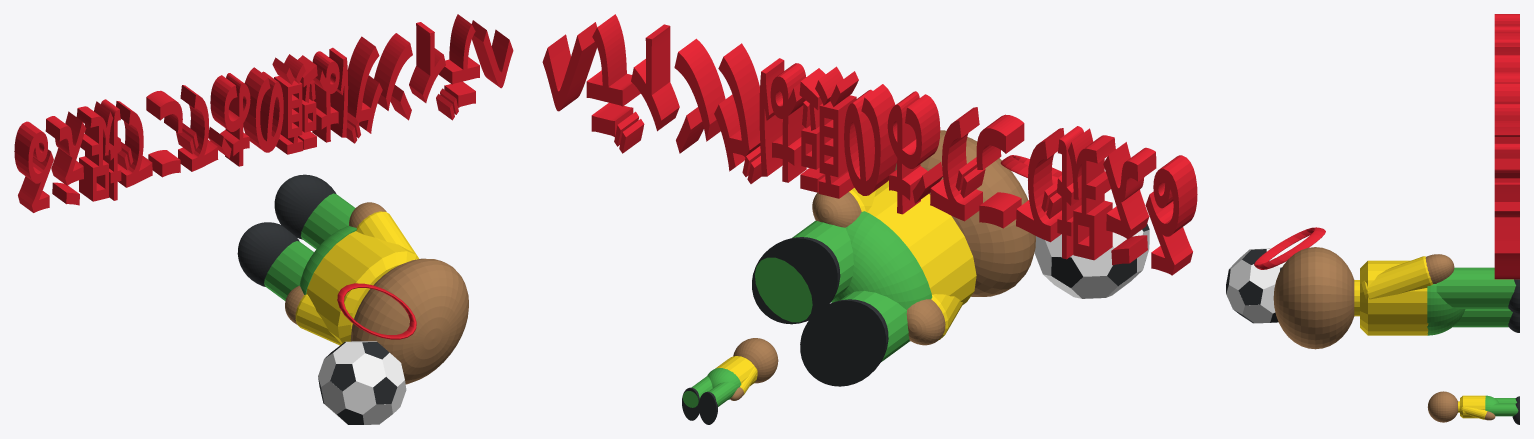
File: tinker.obj
The picture shows the model from 3 angles, left to right: view 1: azimuth 30°, elevation 25°; view 2: azimuth 150°, elevation 25°; view 3: azimuth 270°, elevation 25°; orthographic projection. The views are drawn at different scales.
Visible parts, largest first — view 1: group_0_15277357, group_0_11107152, group_0_16768282, group_0_2829873, group_0_16448250, group_0_4634441; view 2: group_0_15277357, group_0_4634441, group_0_2829873, group_0_11107152, group_0_16768282, group_0_16448250; view 3: group_0_11107152, group_0_15277357, group_0_16768282, group_0_4634441, group_0_16448250, group_0_2829873.
Part boxes in pixels (x1=…): group_0_15277357: x1=14, y1=14, x2=513, y2=339; group_0_11107152: x1=285, y1=202, x2=468, y2=384; group_0_16768282: x1=295, y1=211, x2=419, y2=345; group_0_2829873: x1=237, y1=174, x2=397, y2=424; group_0_16448250: x1=318, y1=341, x2=406, y2=424; group_0_4634441: x1=264, y1=193, x2=356, y2=300; group_0_15277357: x1=542, y1=14, x2=1197, y2=275; group_0_4634441: x1=682, y1=211, x2=932, y2=407; group_0_2829873: x1=682, y1=224, x2=1149, y2=424; group_0_11107152: x1=730, y1=130, x2=1035, y2=400; group_0_16768282: x1=715, y1=180, x2=976, y2=395; group_0_16448250: x1=1034, y1=189, x2=1149, y2=298; group_0_11107152: x1=1273, y1=247, x2=1495, y2=422; group_0_15277357: x1=1254, y1=14, x2=1519, y2=279; group_0_16768282: x1=1354, y1=256, x2=1487, y2=419; group_0_4634441: x1=1427, y1=267, x2=1518, y2=416; group_0_16448250: x1=1226, y1=248, x2=1286, y2=323; group_0_2829873: x1=1226, y1=249, x2=1519, y2=424.
Bounding box in the file's own units: 180 × 101 × 105.
